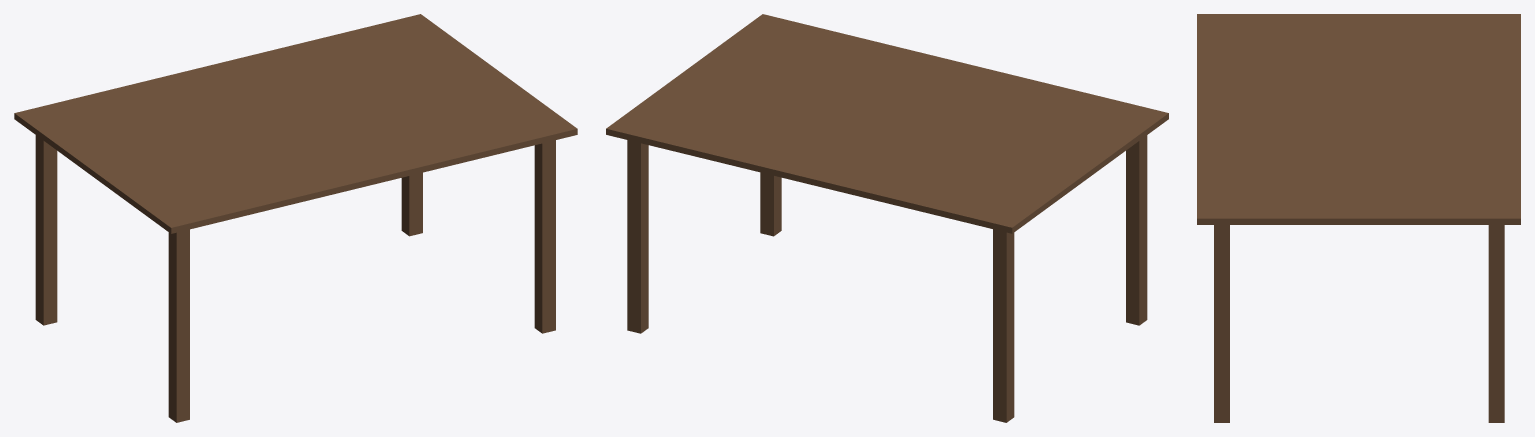
Rendered from MesaEcologica.fbx.
The picture shows the model from 3 angles, left to right: view 1: azimuth 30°, elevation 25°; view 2: azimuth 150°, elevation 25°; view 3: azimuth 270°, elevation 25°; orthographic projection. The views are drawn at different scales.
Parts seen in each view (by area): view 1: Mesa; view 2: Mesa; view 3: Mesa.
Part boxes in pixels (x1,y1,x2,y2): Mesa: (14, 14, 577, 422); Mesa: (606, 14, 1168, 422); Mesa: (1197, 14, 1520, 422).
Size of the model in its own units: 6.92 by 3.33 by 4.63.
